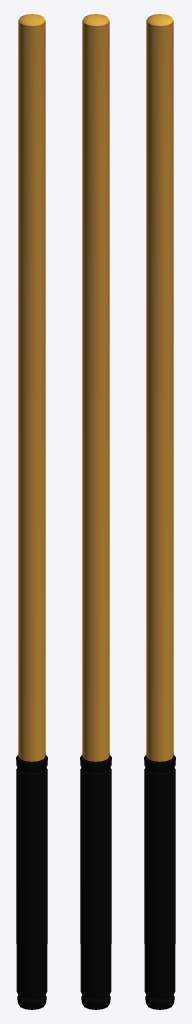
Rendered from Sea_Mark_Special.fbx.
The picture shows the model from 3 angles, left to right: view 1: azimuth 30°, elevation 25°; view 2: azimuth 150°, elevation 25°; view 3: azimuth 330°, elevation 25°; orthographic projection.
Parts seen in each view (by area): view 1: Mdl_SeaSign_Special; view 2: Mdl_SeaSign_Special; view 3: Mdl_SeaSign_Special.
Part boxes in pixels (left/top/right/bottom): Mdl_SeaSign_Special: left=16, top=14, right=47, bottom=1009; Mdl_SeaSign_Special: left=80, top=14, right=111, bottom=1009; Mdl_SeaSign_Special: left=144, top=14, right=175, bottom=1009.
Size of the model in its own units: 0.0583 by 2.01 by 0.0583.
